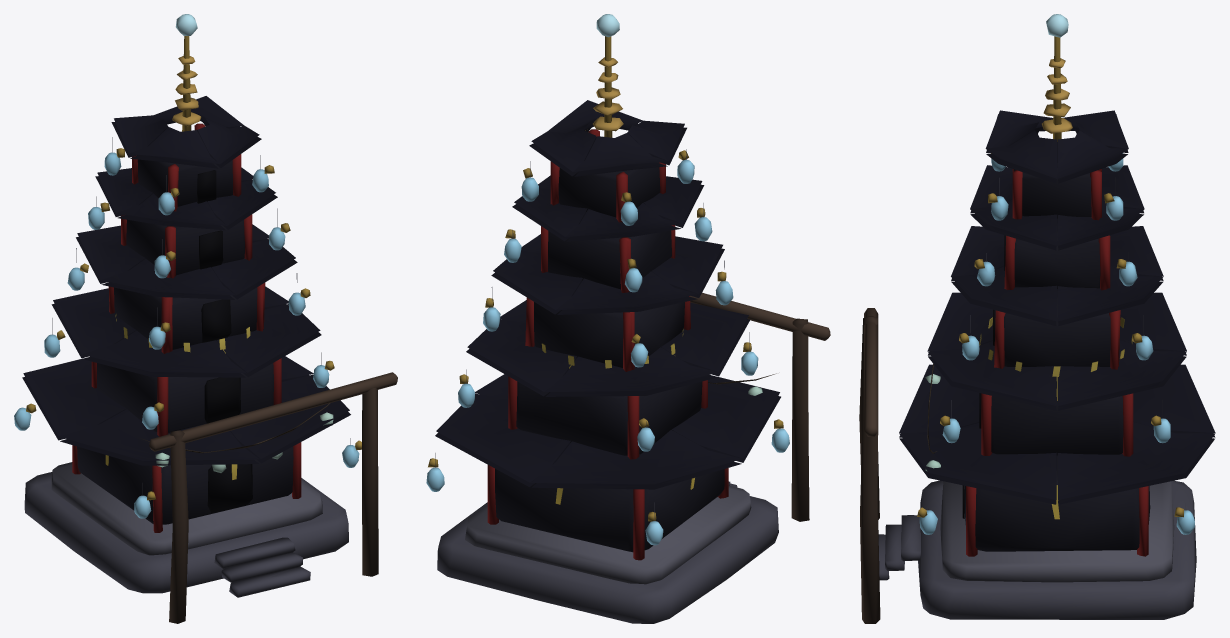
File: ghostpagoda.glb
3 views of the same model, side by side, from view 1: azimuth 30°, elevation 25°; view 2: azimuth 150°, elevation 25°; view 3: azimuth 270°, elevation 25° (orthographic). The views are drawn at different scales.
Parts seen in each view (by area): view 1: ghostpagoda; view 2: ghostpagoda; view 3: ghostpagoda.
Boxes of the visible parts, x1=… form: ghostpagoda: x1=14, y1=14, x2=397, y2=623; ghostpagoda: x1=426, y1=14, x2=830, y2=623; ghostpagoda: x1=859, y1=14, x2=1215, y2=623.
Bounding box in the file's own units: 2.38 × 4.63 × 2.68.
